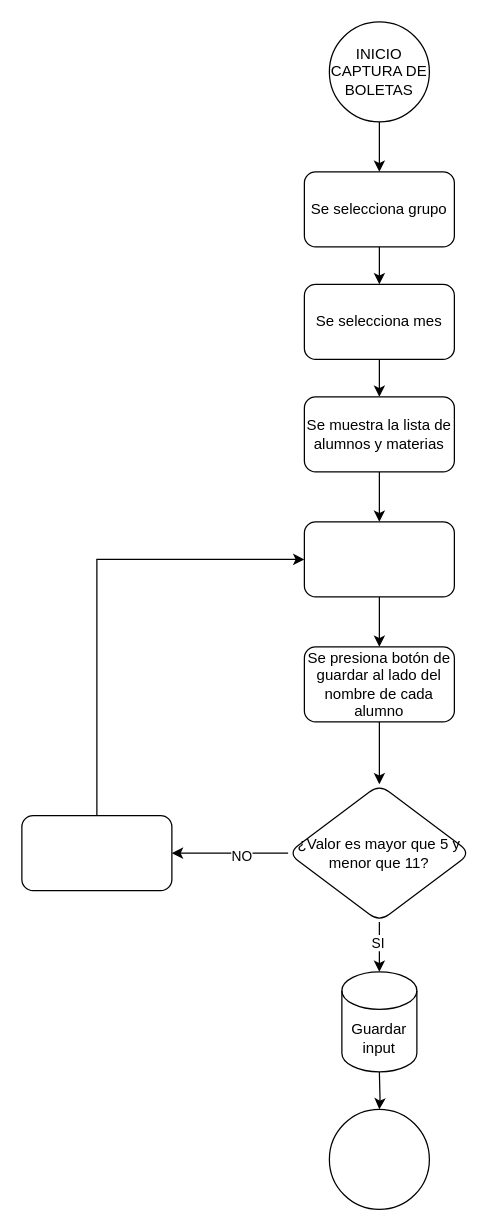
Image size: 493x1231. Some labels were removed from this diagram. Each missing label, with the centre of its shape:
"FIN" goes at point (378, 1158).
"Input invalido, no guardar" goes at point (96, 852).
"Usuario coloca calificacion en espacio correspondiente" goes at point (378, 559).
